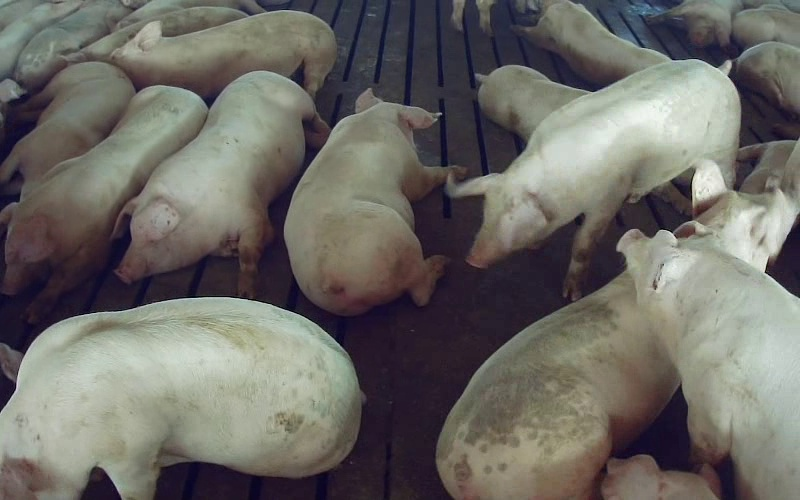pig: (0, 298, 361, 499), (448, 59, 740, 300), (436, 272, 678, 499), (618, 221, 799, 499), (0, 86, 207, 321), (114, 71, 329, 296), (284, 89, 465, 315), (111, 11, 336, 97), (0, 62, 134, 198), (513, 0, 669, 84), (14, 0, 130, 92), (476, 65, 587, 142)
